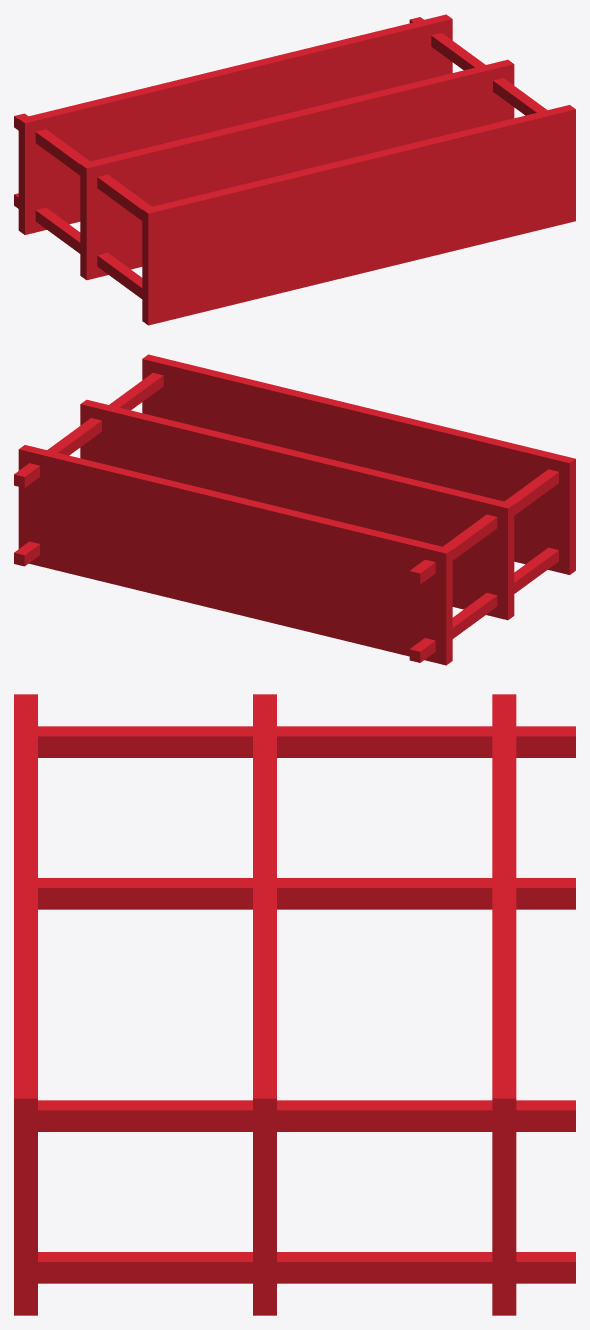
The model's file is Rack.obj.
3 renders of one model, top to bottom at view 1: azimuth 30°, elevation 25°; view 2: azimuth 150°, elevation 25°; view 3: azimuth 270°, elevation 25°, orthographic. The views are drawn at different scales.
Parts seen in each view (by area): view 1: obj_0; view 2: obj_0; view 3: obj_0.
Part boxes in pixels (x1,y1,x2,y2): obj_0: (14, 14, 575, 325); obj_0: (14, 354, 575, 665); obj_0: (14, 694, 575, 1315).
Bounding box in the file's own units: 80 × 20 × 47.
